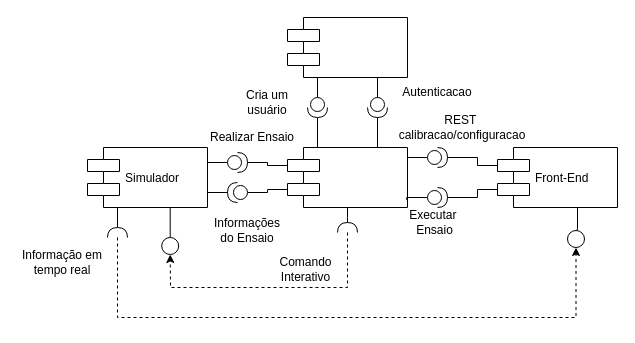
Image size: 635x343. Some labels were removed from this diagram. The centre of each missing label's shape, as x and y in pixels:
"API" goes at (x=347, y=177).
"User" goes at (x=347, y=47).
